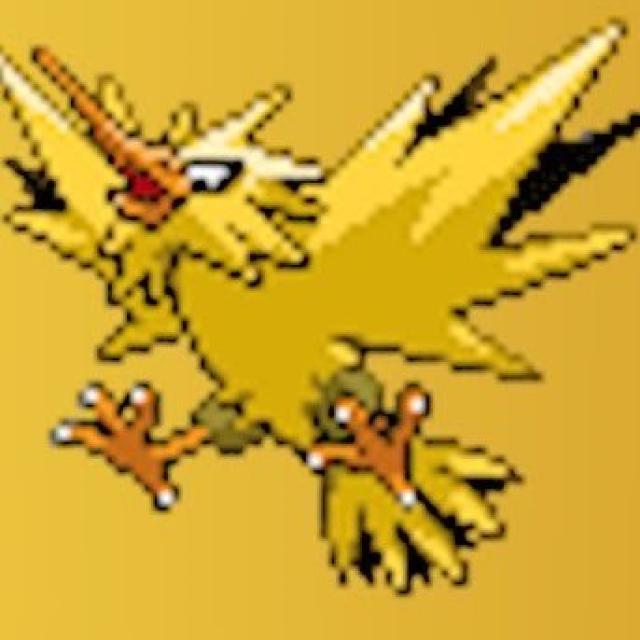Zapdos: (0, 69, 547, 535)
